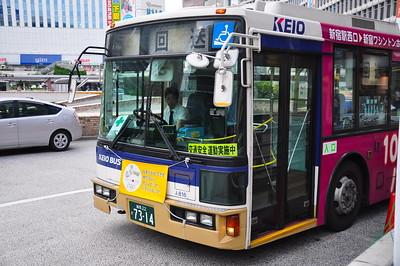bus: (85, 9, 400, 251)
car: (0, 93, 84, 152)
